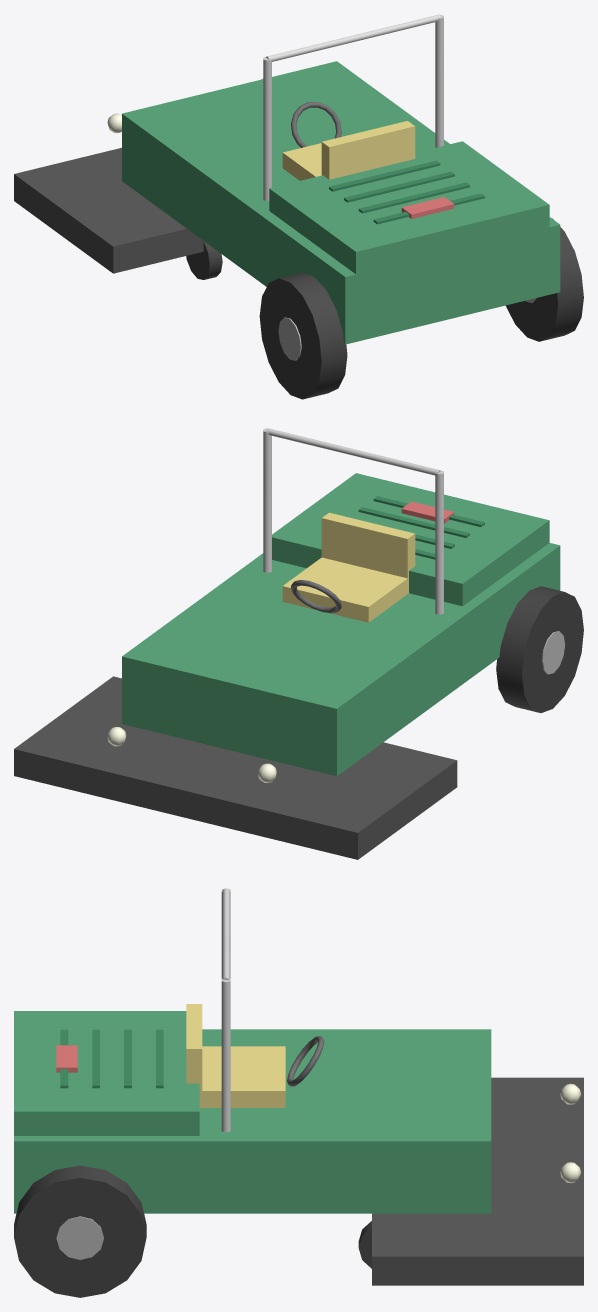
The model's file is riding_mower.glb.
3 views of the same model, one above another, from view 1: azimuth 30°, elevation 25°; view 2: azimuth 150°, elevation 25°; view 3: azimuth 270°, elevation 25° (orthographic). The views are drawn at different scales.
Bounding box in the file's own units: 1.6 × 1.24 × 2.15.
